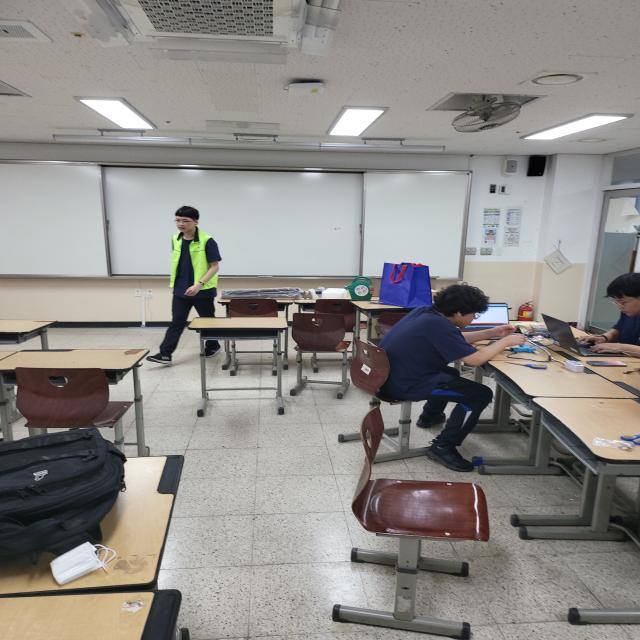weston_spy: (167, 238, 224, 293)
